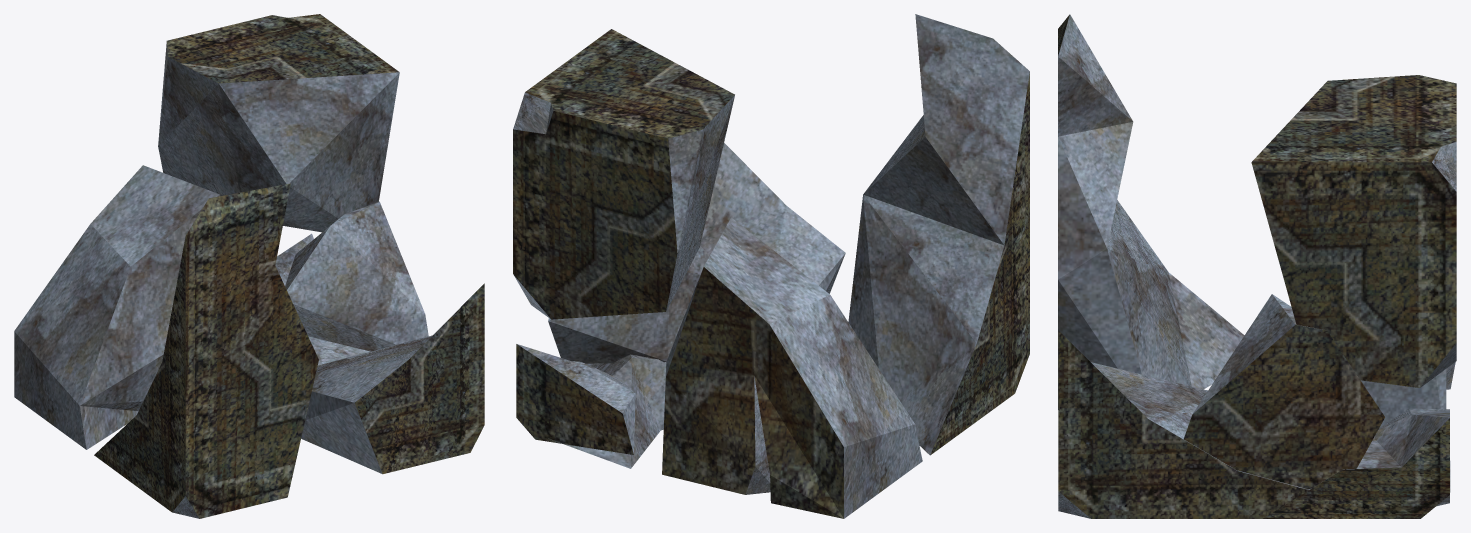
The model's file is StonePieces.gltf.
The picture shows the model from 3 angles, left to right: view 1: azimuth 30°, elevation 25°; view 2: azimuth 150°, elevation 25°; view 3: azimuth 270°, elevation 25°; orthographic projection. The views are drawn at different scales.
Visible parts, largest first — view 1: StonePiece4, StonePiece1, StonePiece2, StonePiece6, StonePiece5, StonePiece3; view 2: StonePiece4, StonePiece2, StonePiece1, StonePiece6, StonePiece3, StonePiece5; view 3: StonePiece1, StonePiece4, StonePiece6, StonePiece5, StonePiece3, StonePiece2.
Part boxes in pixels (<box>): StonePiece4: <box>94,183,318,518</box>; StonePiece1: <box>158,14,399,232</box>; StonePiece2: <box>14,165,220,449</box>; StonePiece6: <box>301,283,484,474</box>; StonePiece5: <box>285,201,428,351</box>; StonePiece3: <box>275,233,313,285</box>; StonePiece4: <box>848,14,1029,455</box>; StonePiece2: <box>662,217,922,518</box>; StonePiece1: <box>513,29,734,319</box>; StonePiece6: <box>548,143,845,468</box>; StonePiece3: <box>516,344,635,454</box>; StonePiece5: <box>548,246,709,363</box>; StonePiece1: <box>1251,75,1456,387</box>; StonePiece4: <box>1058,14,1244,409</box>; StonePiece6: <box>1058,330,1450,518</box>; StonePiece5: <box>1184,294,1384,489</box>; StonePiece3: <box>1263,408,1449,518</box>; StonePiece2: <box>1361,362,1455,427</box>.
Size of the model in its own units: 2 by 2.01 by 2.03.
2 materials, 2 textured.
